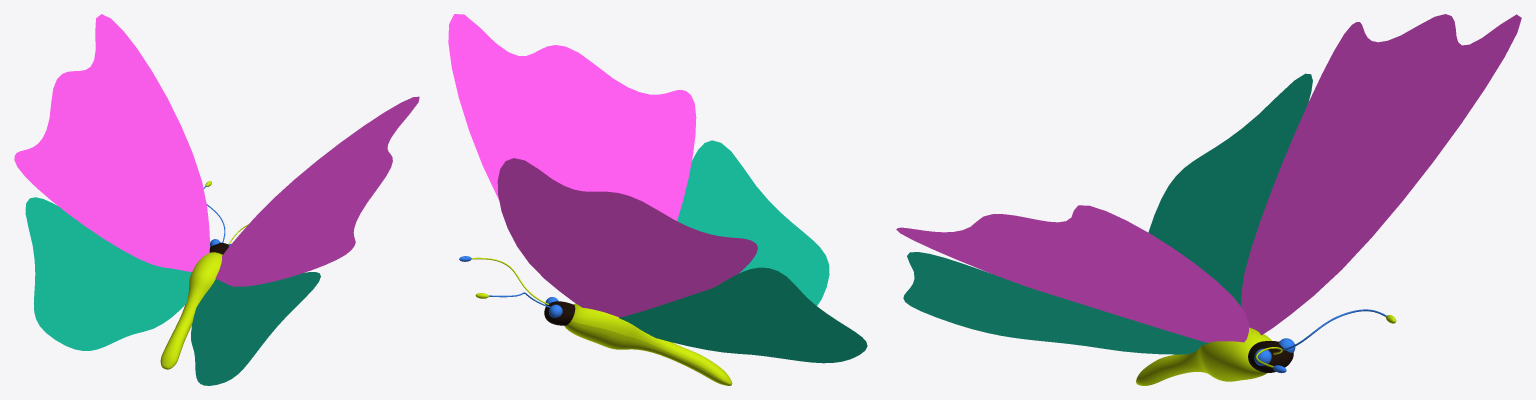
File: insect.FBX
The picture shows the model from 3 angles, left to right: view 1: azimuth 30°, elevation 25°; view 2: azimuth 150°, elevation 25°; view 3: azimuth 270°, elevation 25°; orthographic projection. The views are drawn at different scales.
Parts seen in each view (by area): view 1: Line15, Line14, Line15.Line11, Line14.Line16, Line17; view 2: Line15.Line11, Line15, Line14, Line14.Line16, Line17, Line12; view 3: Line15, Line15.Line11, Line14, Line14.Line16, Line17, Line12.
Part boxes in pixels (x1,y1,x2,y2): Line15: [14, 14, 209, 271]; Line14: [25, 197, 191, 350]; Line15.Line11: [215, 96, 419, 286]; Line14.Line16: [191, 272, 320, 385]; Line17: [160, 252, 222, 369]; Line15.Line11: [448, 14, 696, 220]; Line15: [497, 158, 757, 317]; Line14: [619, 267, 867, 363]; Line14.Line16: [677, 140, 829, 305]; Line17: [564, 303, 732, 385]; Line12: [544, 301, 575, 325]; Line15: [1241, 14, 1521, 335]; Line15.Line11: [896, 205, 1248, 342]; Line14: [1148, 73, 1312, 305]; Line14.Line16: [903, 252, 1209, 354]; Line17: [1136, 327, 1271, 385]; Line12: [1248, 341, 1293, 372].
Size of what is drawn, in the model's own units: 76.24 by 52.15 by 72.5.
